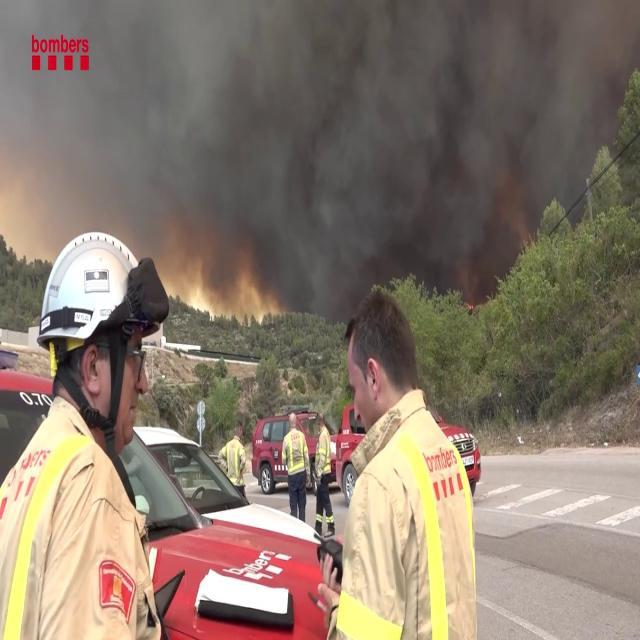Fire: (173, 250, 285, 328)
Smoke: (7, 1, 638, 288)
